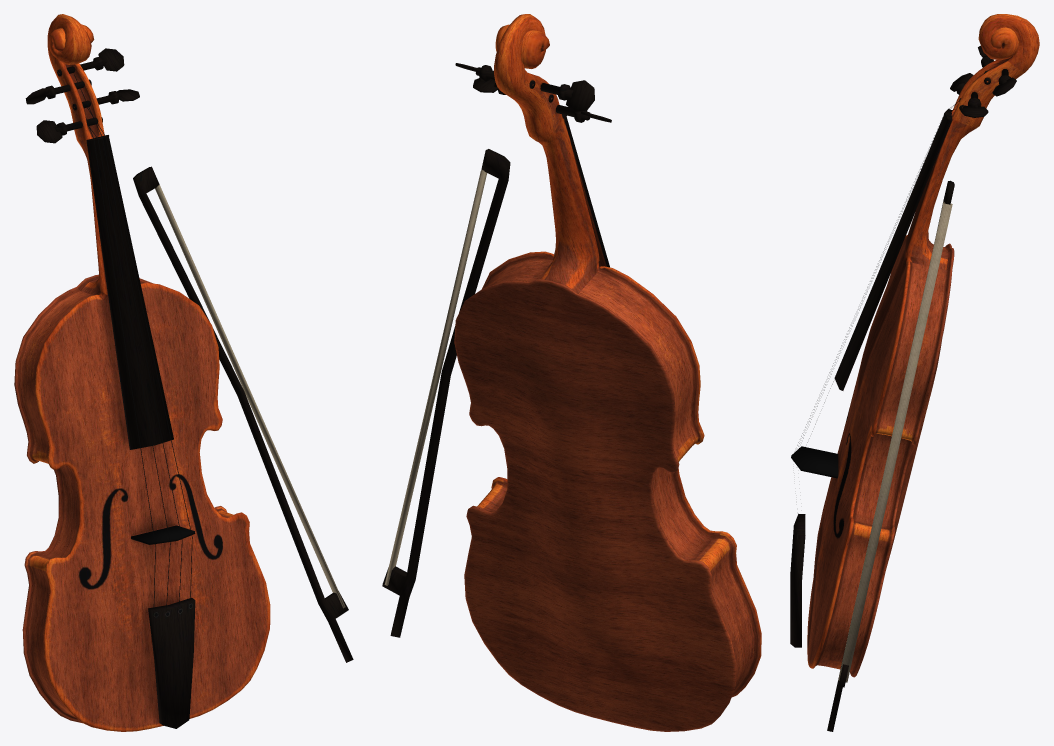
File: 小提琴.fbx
The picture shows the model from 3 angles, left to right: view 1: azimuth 30°, elevation 25°; view 2: azimuth 150°, elevation 25°; view 3: azimuth 270°, elevation 25°; orthographic projection. The views are drawn at different scales.
Parts seen in each view (by area): view 1: 小提琴; view 2: 小提琴; view 3: 小提琴.
Boxes of the visible parts, x1,y1,x2,y2 form: 小提琴: (14,14,353,731); 小提琴: (382,14,761,731); 小提琴: (790,14,1039,731).
Size of the model in its own units: 503 by 1000 by 353.
Materials: 1 (1 with a texture image).
